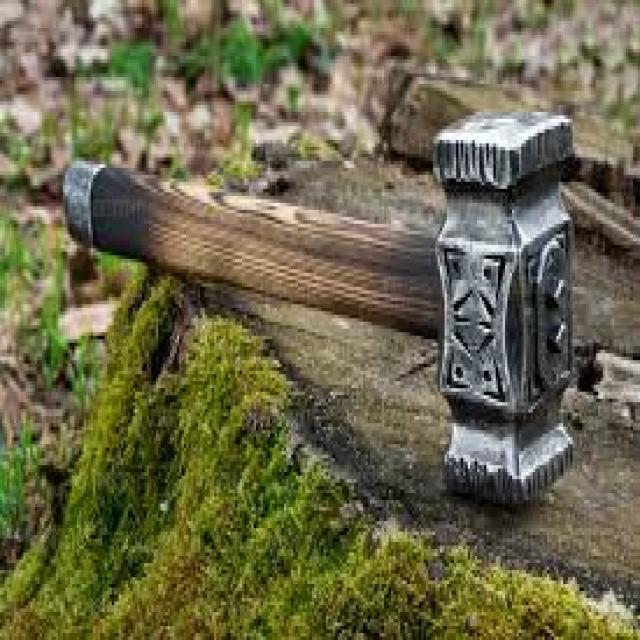hammer: (54, 91, 602, 514)
